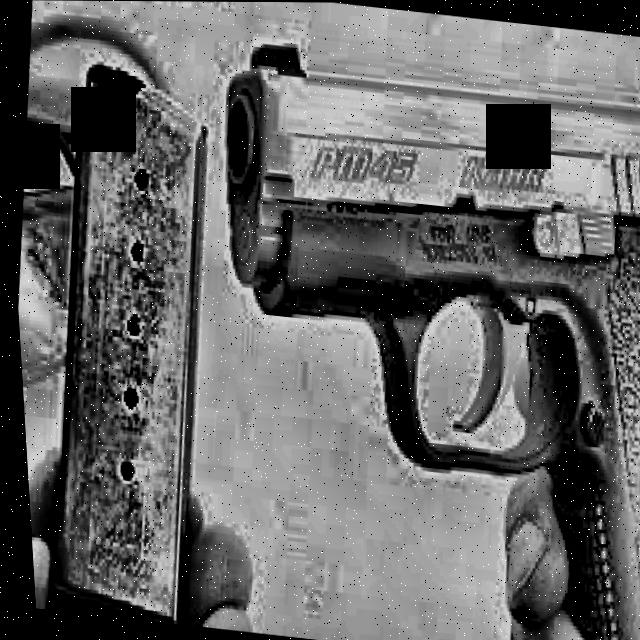Kahr: (163, 24, 640, 640)
